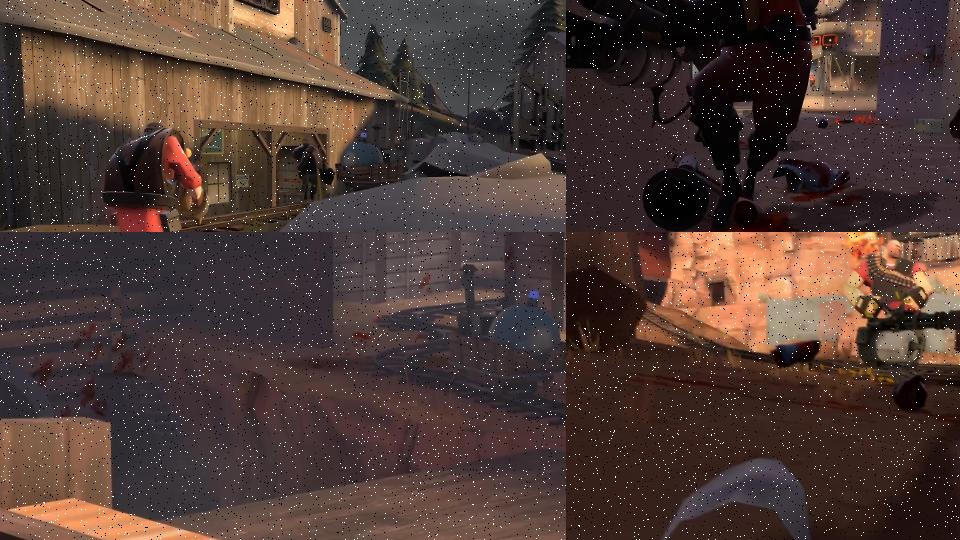Enemy: (566, 0, 825, 232), (841, 238, 960, 369), (101, 119, 210, 232), (292, 136, 336, 200)
